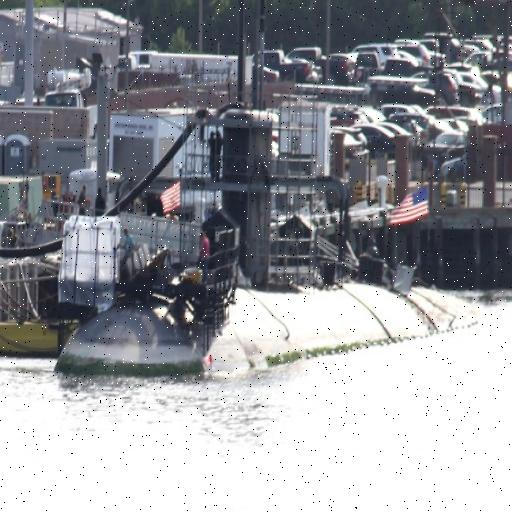submarine: (52, 1, 483, 376)
